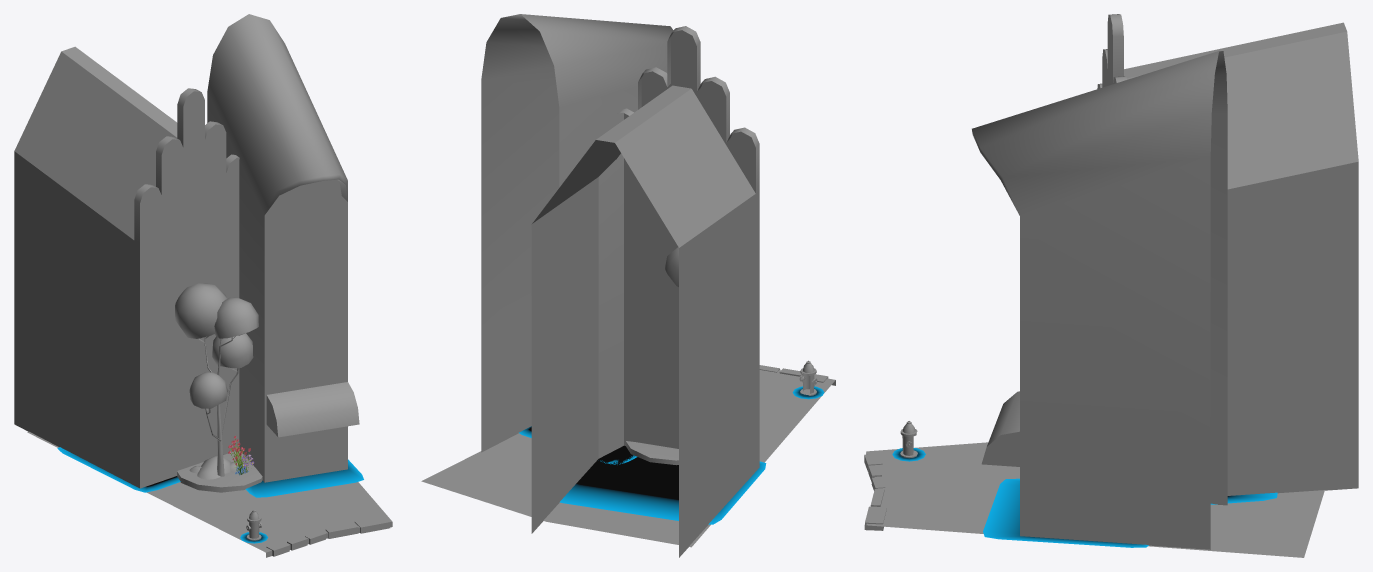
The model's file is CharacterWedge (4).fbx.
The picture shows the model from 3 angles, left to right: view 1: azimuth 30°, elevation 25°; view 2: azimuth 150°, elevation 25°; view 3: azimuth 270°, elevation 25°; orthographic projection. The views are drawn at different scales.
Parts seen in each view (by area): view 1: Building_OldTown_C, Building_OldTown_G, Start_Wedge, Tree_B (3), Awning_B (1), Building_Shadow, ParkMound_D (2), Building_Shadow (1), Bush_Mounds_A, Flowers_C; view 2: Building_OldTown_C, Building_OldTown_G, Start_Wedge, Building_Shadow (1), ParkMound_D (2); view 3: Building_OldTown_G, Building_OldTown_C, Start_Wedge, Building_Shadow, Awning_B (1).
Part boxes in pixels (bbox=[...]): Building_OldTown_C: bbox=[14, 46, 239, 488]; Building_OldTown_G: bbox=[207, 14, 347, 482]; Start_Wedge: bbox=[27, 431, 392, 557]; Tree_B (3): bbox=[175, 283, 258, 476]; Awning_B (1): bbox=[266, 382, 359, 437]; Building_Shadow: bbox=[245, 459, 363, 497]; ParkMound_D (2): bbox=[177, 451, 262, 492]; Building_Shadow (1): bbox=[57, 447, 180, 492]; Bush_Mounds_A: bbox=[189, 455, 247, 479]; Flowers_C: bbox=[228, 435, 254, 475]; Building_OldTown_C: bbox=[531, 26, 759, 557]; Building_OldTown_G: bbox=[481, 14, 673, 458]; Start_Wedge: bbox=[421, 370, 835, 547]; Building_Shadow (1): bbox=[560, 446, 766, 524]; ParkMound_D (2): bbox=[625, 441, 678, 465]; Building_OldTown_G: bbox=[972, 51, 1227, 549]; Building_OldTown_C: bbox=[1097, 14, 1358, 495]; Start_Wedge: bbox=[866, 442, 1324, 557]; Building_Shadow: bbox=[983, 478, 1148, 547]; Awning_B (1): bbox=[981, 391, 1019, 466].
Size of the model in its own units: 9.46 by 15.26 by 14.16.
